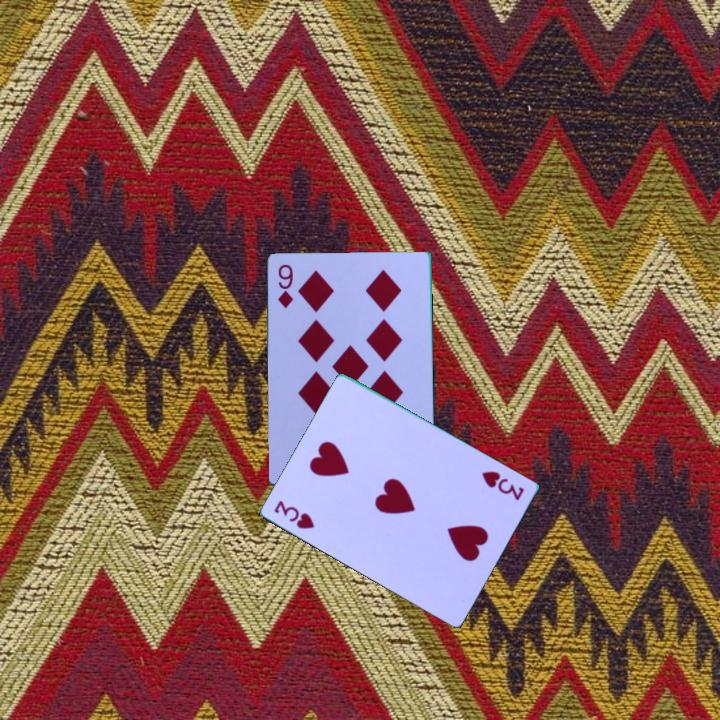3h: (478, 467, 528, 503), (271, 497, 318, 532)
9d: (275, 261, 296, 312)
